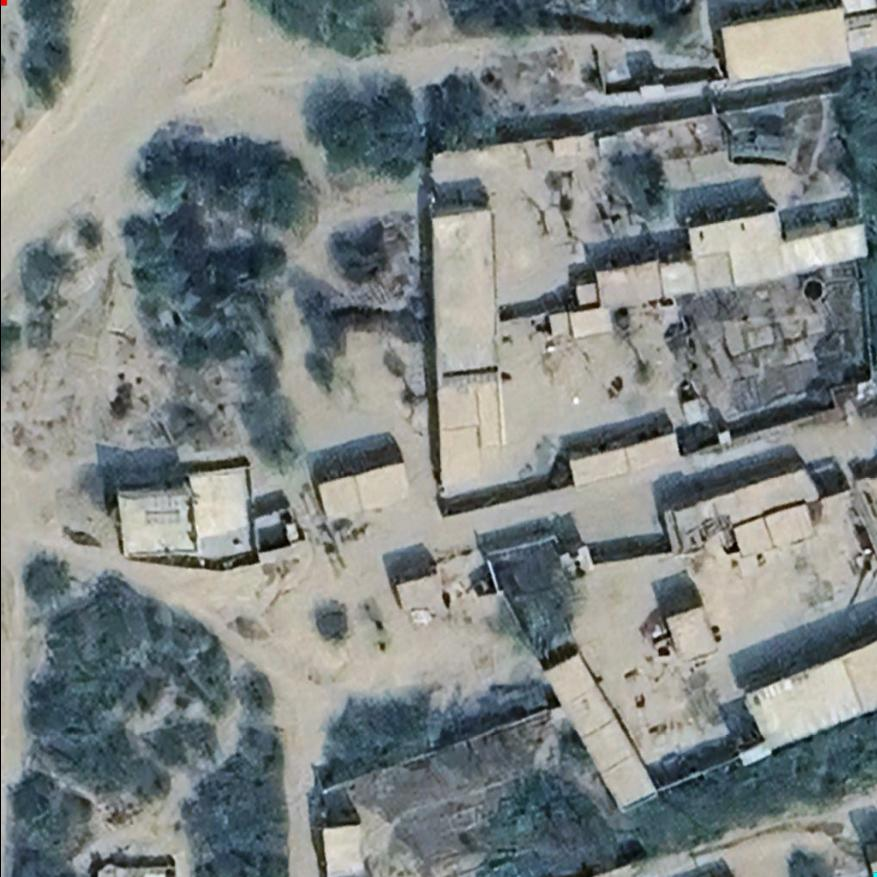Solarpanel: (437, 367, 503, 391)
